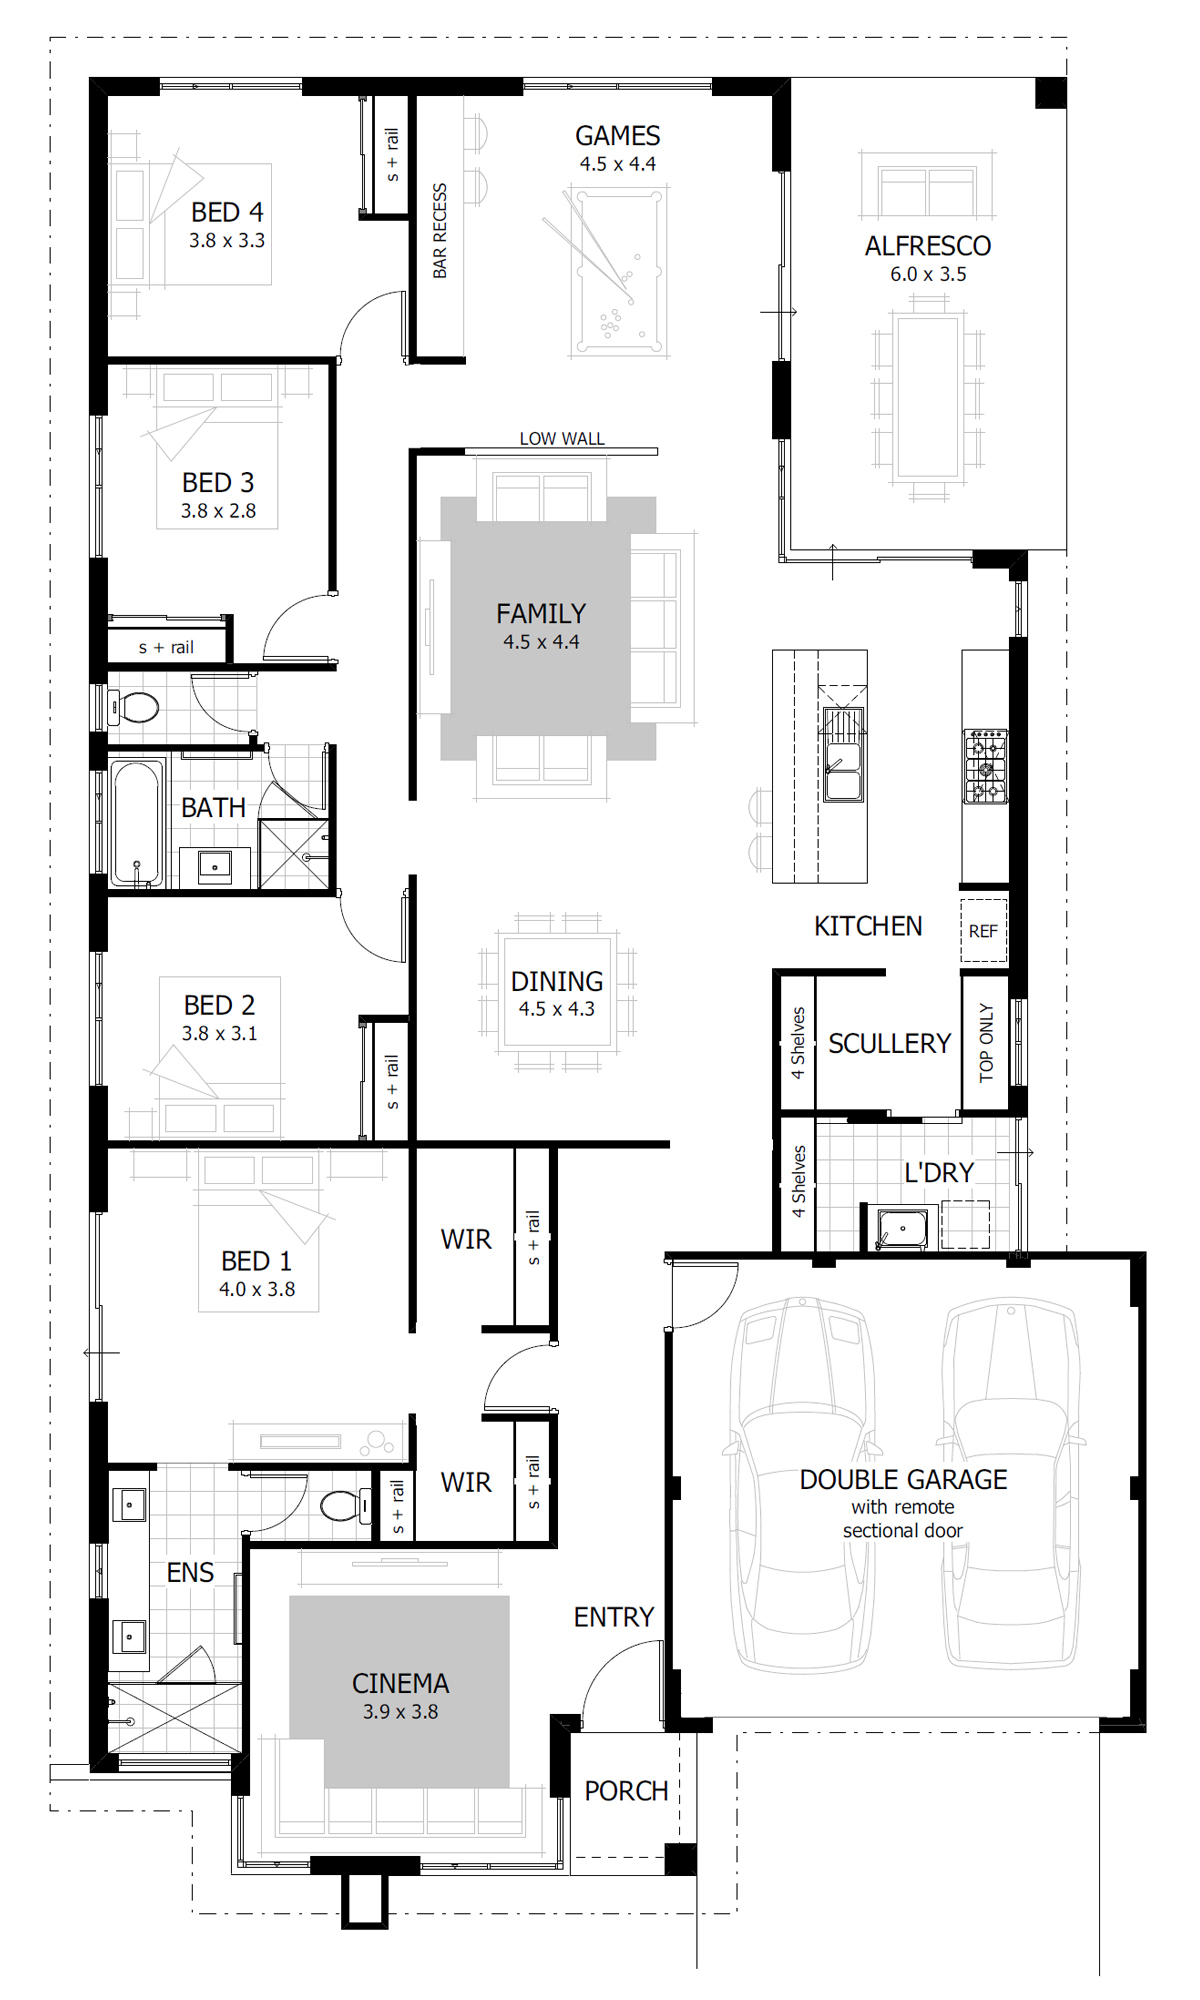door: (577, 1630, 666, 1721), (670, 1259, 746, 1331), (334, 893, 409, 966), (477, 1341, 551, 1414), (334, 283, 406, 354), (261, 593, 331, 664), (189, 669, 254, 734)
